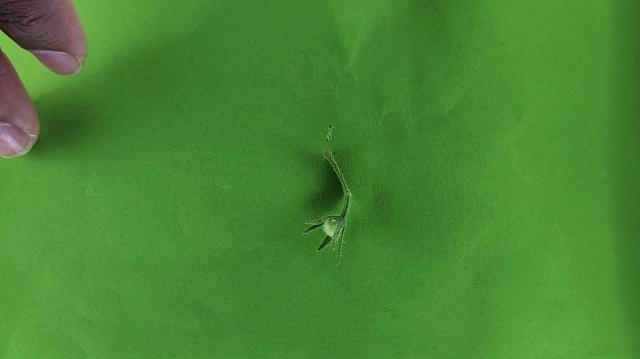Fruit Bud: (303, 217, 340, 249), (315, 216, 346, 246)
